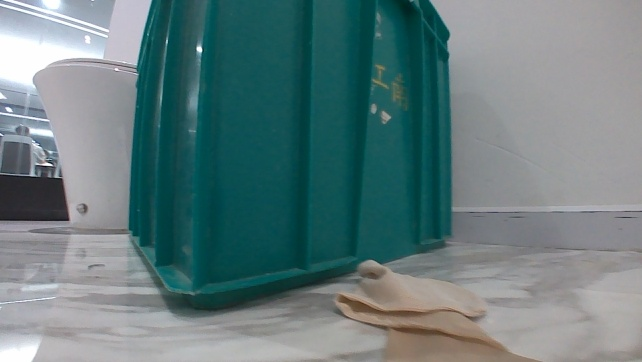socks: (329, 253, 537, 361)
toilet: (28, 54, 139, 232)
